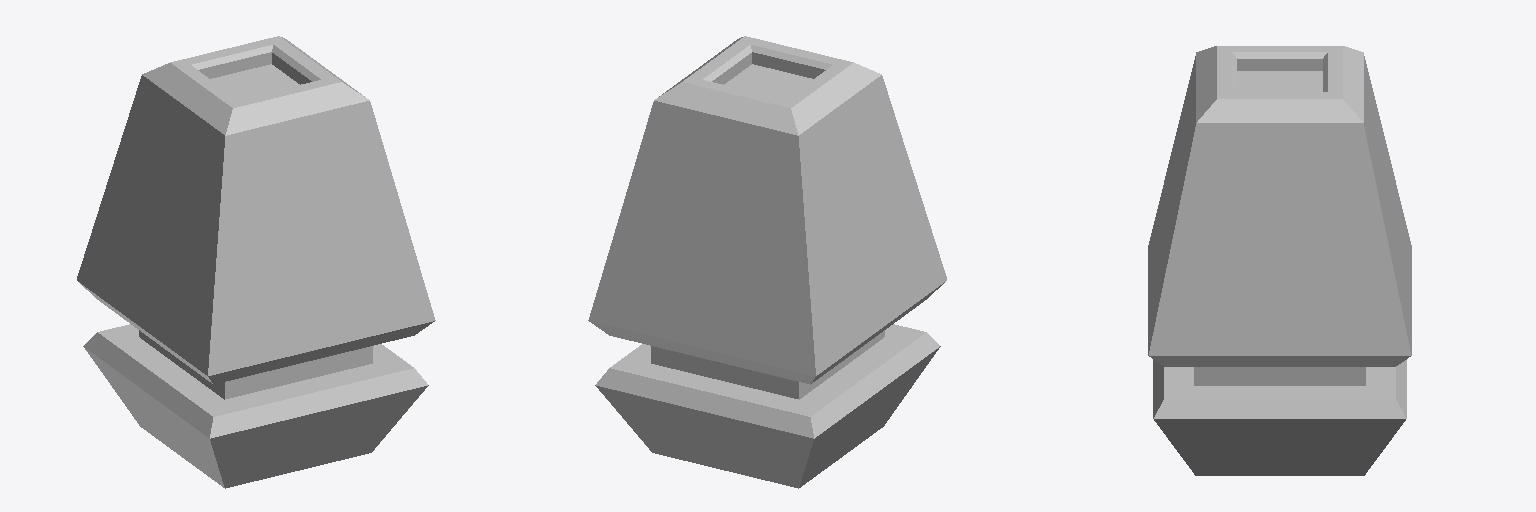
The model's file is Lamp 4.obj.
3 views of the same model, side by side, from view 1: azimuth 30°, elevation 25°; view 2: azimuth 150°, elevation 25°; view 3: azimuth 270°, elevation 25° (orthographic).
Parts seen in each view (by area): view 1: Cube, Cube.002, Cube.001; view 2: Cube, Cube.002, Cube.001; view 3: Cube, Cube.002, Cube.001.
Part boxes in pixels (left/top/right/bottom): Cube: left=77, top=36, right=435, bottom=384; Cube.002: left=83, top=324, right=428, bottom=488; Cube.001: left=139, top=330, right=372, bottom=399; Cube: left=588, top=36, right=946, bottom=384; Cube.002: left=595, top=324, right=940, bottom=488; Cube.001: left=651, top=330, right=884, bottom=399; Cube: left=1148, top=46, right=1411, bottom=366; Cube.002: left=1153, top=360, right=1406, bottom=475; Cube.001: left=1194, top=367, right=1365, bottom=385.
Bounding box in the file's own units: 1.94 × 3 × 1.94.